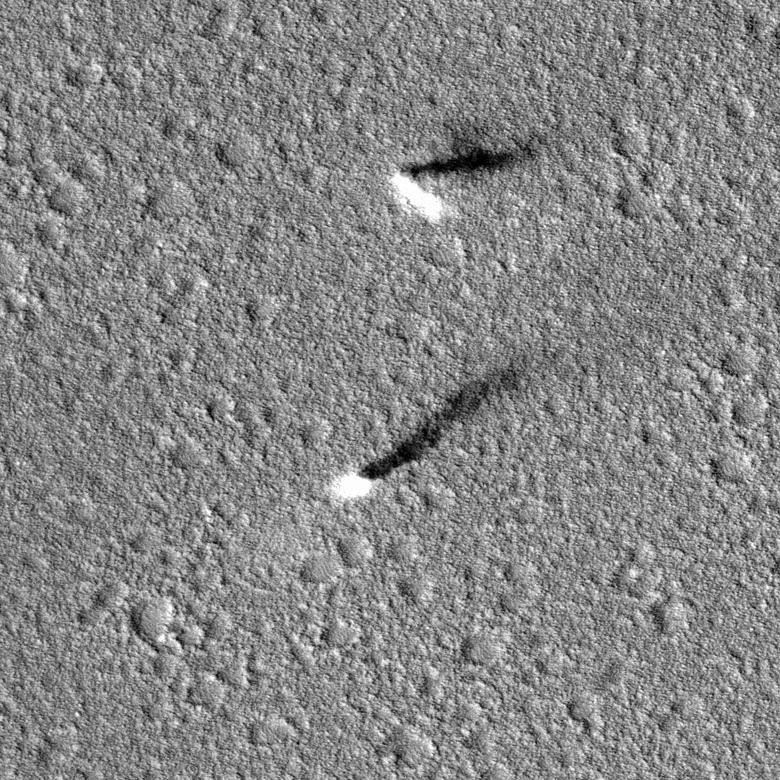dust_devil: (328, 366, 518, 503), (387, 138, 532, 229)
